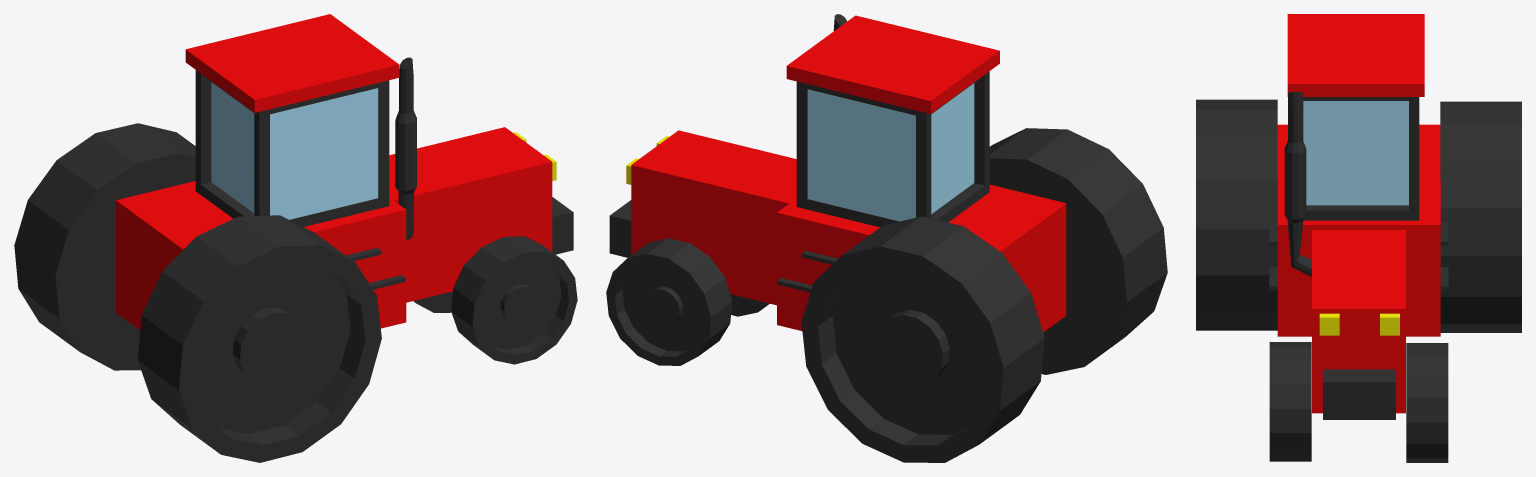
File: Tractor Rojo.fbx
The picture shows the model from 3 angles, left to right: view 1: azimuth 30°, elevation 25°; view 2: azimuth 150°, elevation 25°; view 3: azimuth 270°, elevation 25°; orthographic projection.
Parts seen in each view (by area): view 1: Cylinder.001, Cylinder.009, Cube.001, Cube.006, Cube.002, Cube.007, Cylinder.005, Cube.003, Cylinder.003, Cylinder, Cylinder.006, Cube.011; view 2: Cylinder.009, Cylinder.001, Cube.001, Cube.006, Cube.002, Cube.007, Cylinder.002, Cube.003, Cylinder.010, Cylinder.004, Cube.011; view 3: Cylinder.001, Cylinder.009, Cube.001, Cube.007, Cube.002, Cube.006, Cylinder.005, Cylinder.002, Cube.011, Cube.003, Cylinder, Cube.010 (+2 smaller).
Boxes of the visible parts, bbox=[...] form: Cylinder.001: bbox=[137, 215, 381, 462]; Cylinder.009: bbox=[14, 123, 195, 370]; Cube.001: bbox=[389, 127, 552, 302]; Cube.006: bbox=[211, 82, 378, 219]; Cube.002: bbox=[116, 181, 406, 330]; Cube.007: bbox=[185, 14, 399, 112]; Cylinder.005: bbox=[451, 236, 577, 364]; Cube.003: bbox=[195, 70, 389, 226]; Cylinder.003: bbox=[232, 307, 305, 382]; Cylinder: bbox=[395, 57, 416, 240]; Cylinder.006: bbox=[500, 284, 537, 322]; Cube.011: bbox=[552, 197, 573, 254]; Cylinder.009: bbox=[801, 216, 1044, 462]; Cylinder.001: bbox=[989, 128, 1167, 374]; Cube.001: bbox=[631, 130, 796, 305]; Cube.006: bbox=[807, 83, 974, 221]; Cube.002: bbox=[777, 184, 1066, 332]; Cube.007: bbox=[786, 15, 999, 113]; Cylinder.002: bbox=[606, 238, 732, 365]; Cube.003: bbox=[796, 71, 989, 227]; Cylinder.010: bbox=[877, 309, 949, 384]; Cylinder.004: bbox=[645, 286, 683, 325]; Cube.011: bbox=[609, 200, 631, 257]; Cylinder.001: bbox=[1196, 99, 1277, 330]; Cylinder.009: bbox=[1440, 101, 1521, 332]; Cube.001: bbox=[1312, 230, 1405, 413]; Cube.007: bbox=[1287, 14, 1424, 96]; Cube.002: bbox=[1277, 124, 1440, 336]; Cube.006: bbox=[1303, 101, 1408, 205]; Cylinder.005: bbox=[1269, 342, 1311, 461]; Cylinder.002: bbox=[1406, 343, 1448, 462]; Cube.011: bbox=[1323, 369, 1395, 419]; Cube.003: bbox=[1303, 97, 1419, 220]; Cylinder: bbox=[1284, 92, 1311, 276]; Cube.010: bbox=[1269, 222, 1448, 290].
Bounding box in the file's own units: 386 × 258 × 240.
